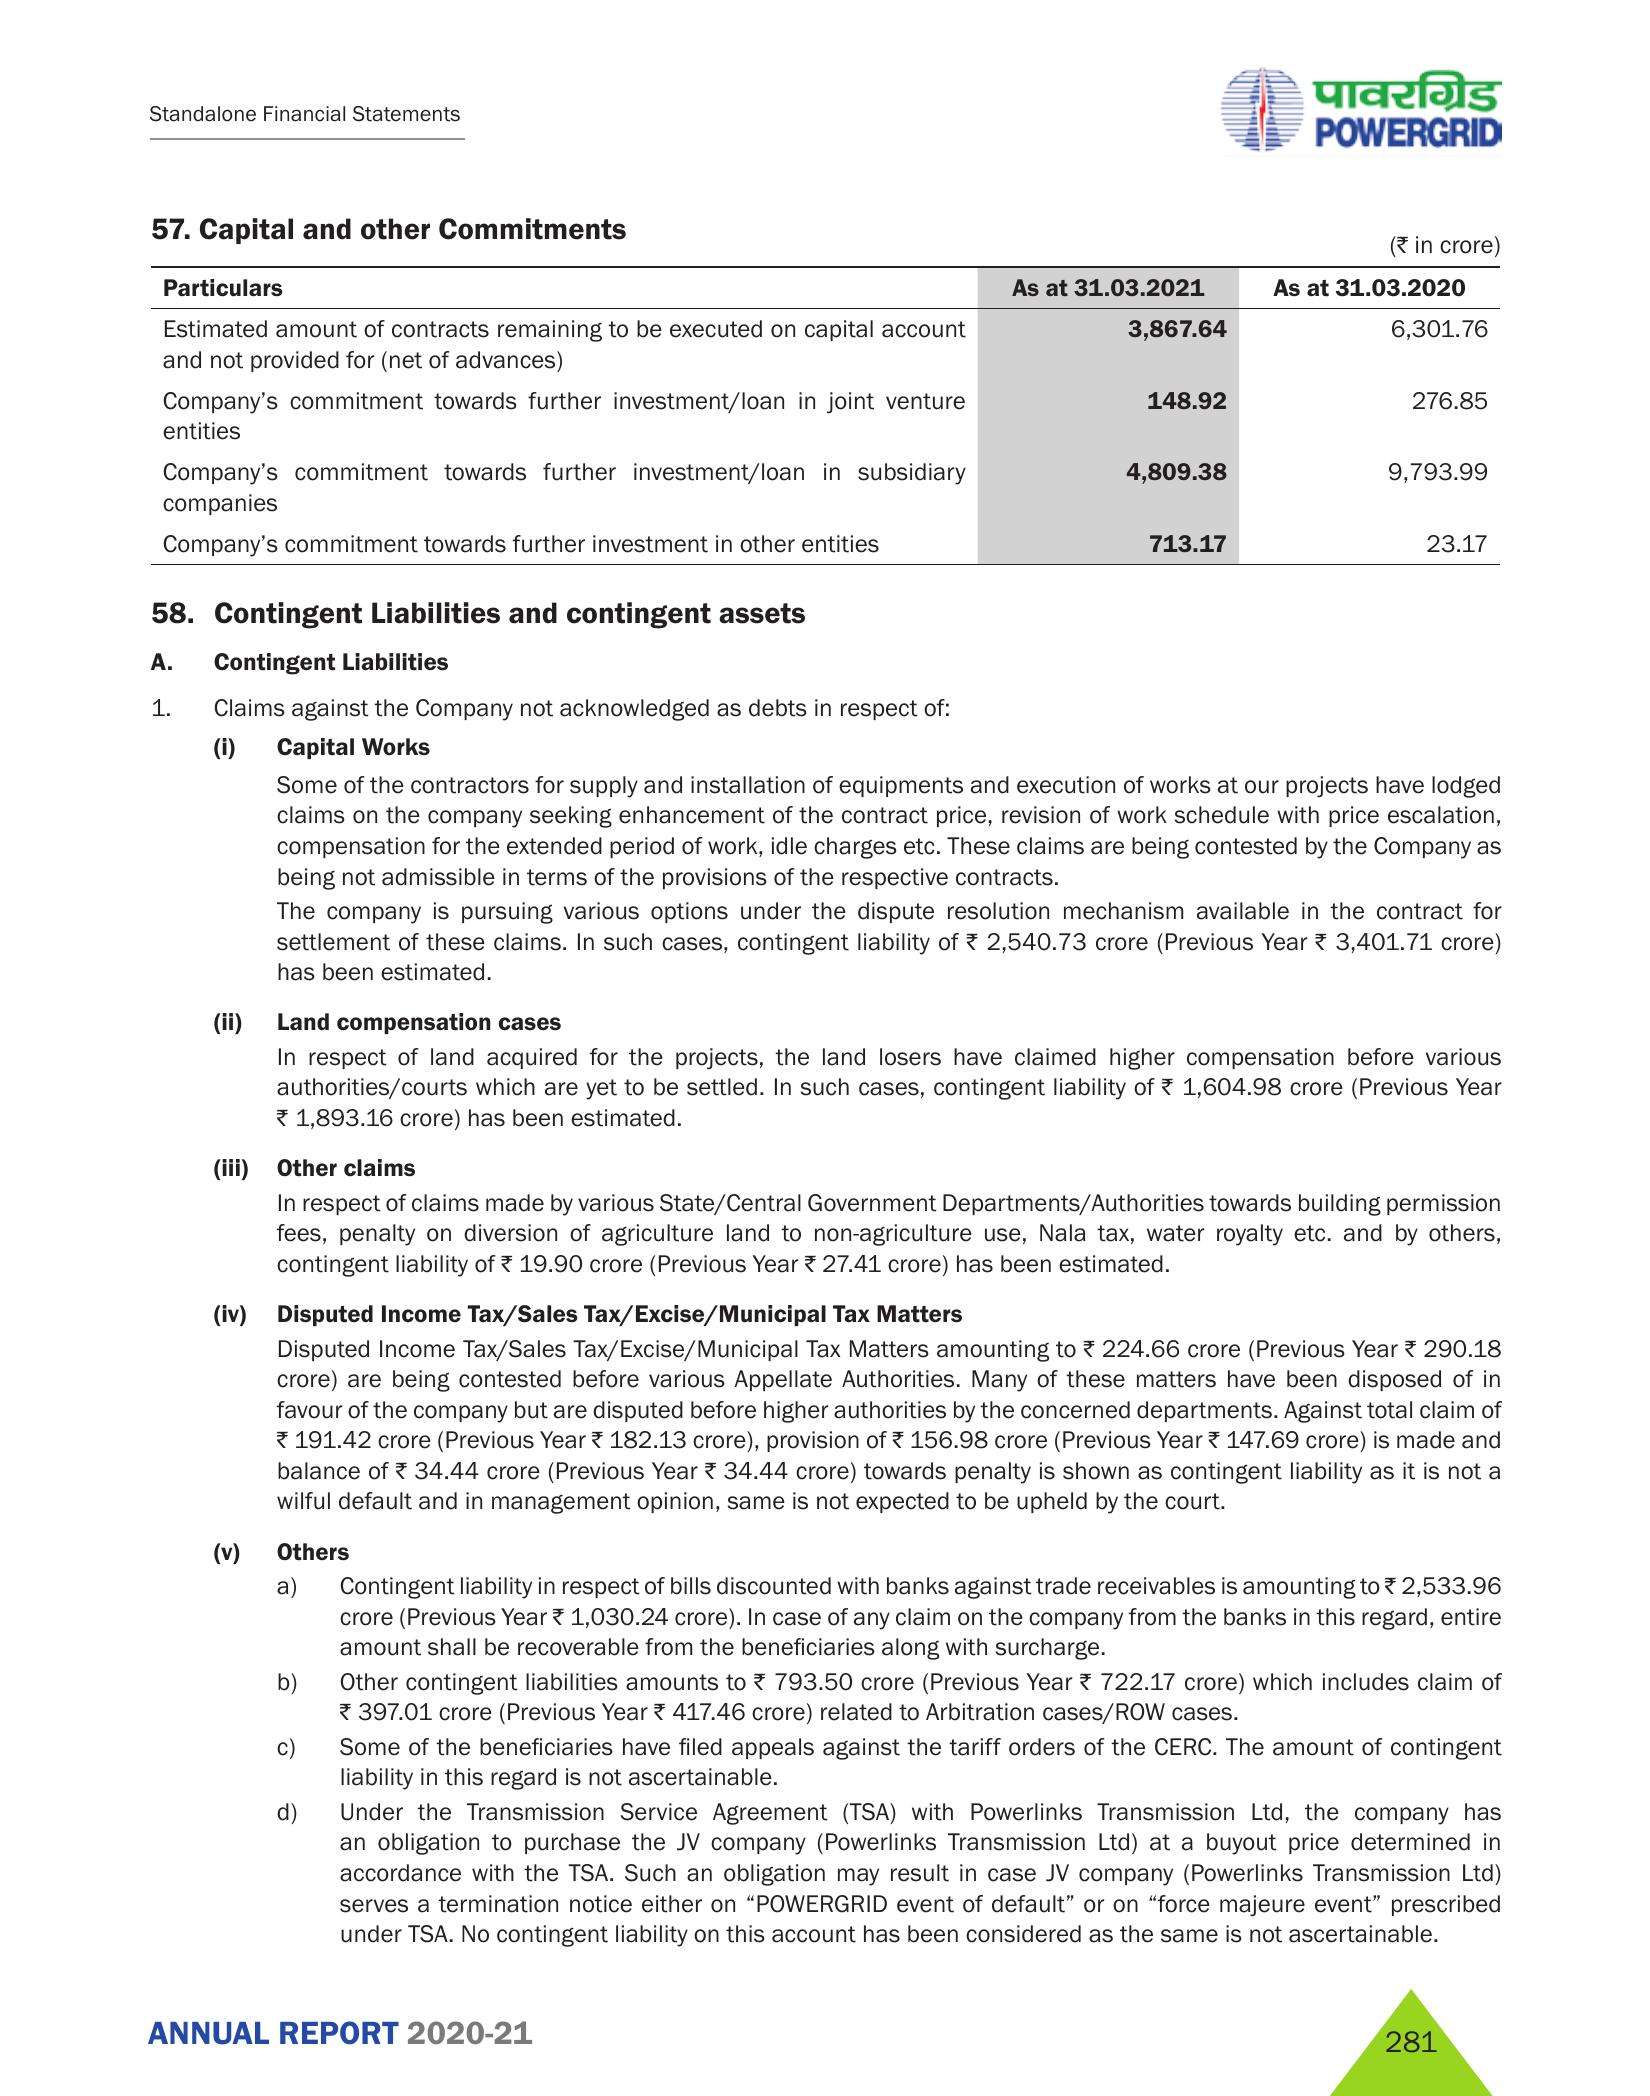Footer: (0, 1968, 1650, 2096)
Header: (0, 0, 1650, 168)
Table: (126, 260, 1492, 568)
